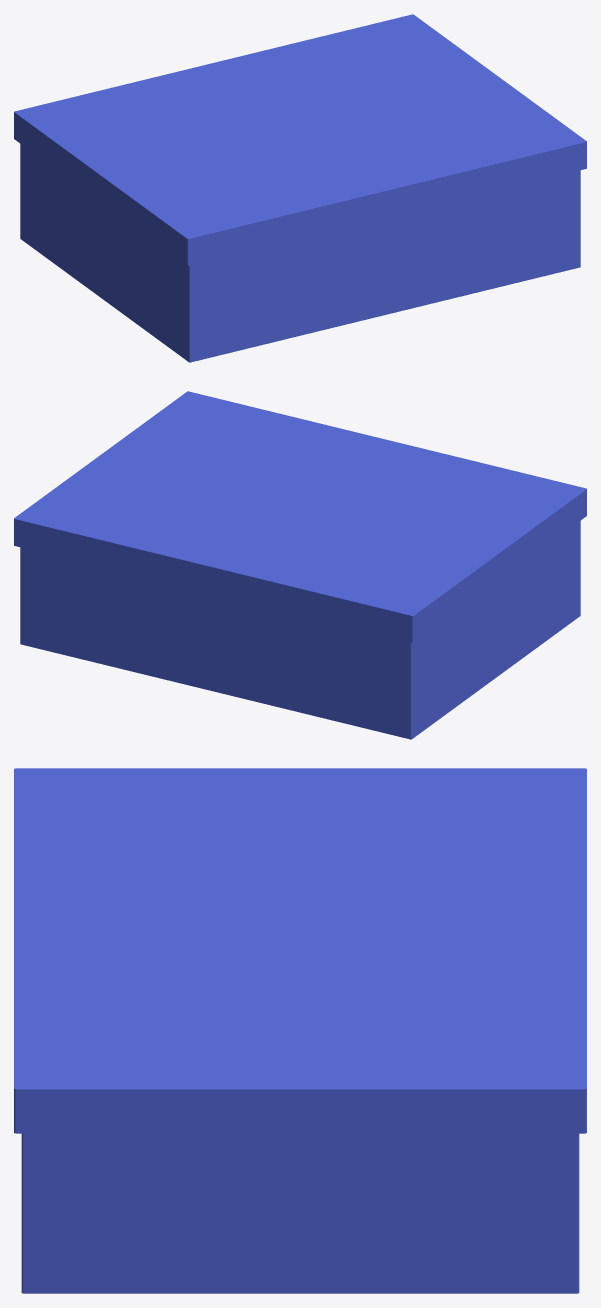
File: WRECKIT.gltf
3 renders of one model, top to bottom at view 1: azimuth 30°, elevation 25°; view 2: azimuth 150°, elevation 25°; view 3: azimuth 270°, elevation 25°, orthographic. The views are drawn at different scales.
Parts seen in each view (by area): view 1: box tutup, box; view 2: box tutup, box; view 3: box tutup, box.
Boxes of the visible parts, bbox=[...] form: box tutup: bbox=[14, 14, 586, 265]; box: bbox=[20, 144, 580, 362]; box tutup: bbox=[14, 391, 586, 642]; box: bbox=[20, 521, 580, 739]; box tutup: bbox=[14, 768, 586, 1133]; box: bbox=[21, 1133, 579, 1293].
Size of the model in its own units: 0.4082 by 0.1235 by 0.3082.
